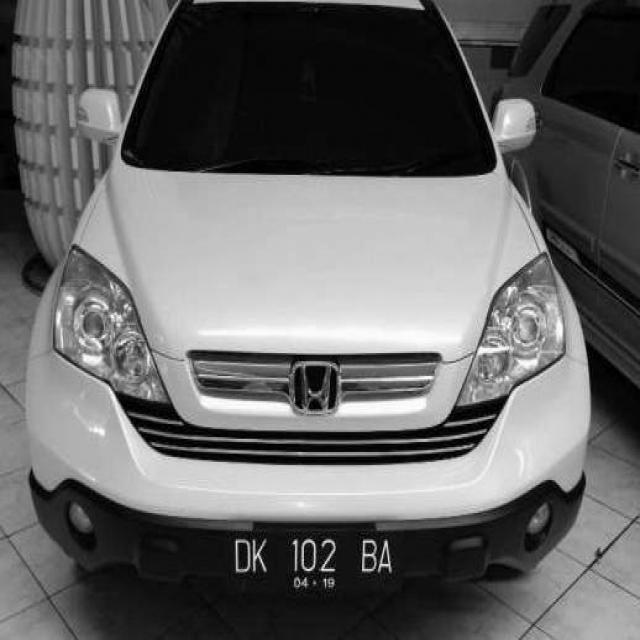0: (303, 536, 320, 583)
1: (286, 538, 304, 584)
2: (320, 540, 342, 576)
A: (376, 530, 398, 578)
B: (353, 530, 377, 578)
D: (233, 538, 251, 574)
K: (250, 538, 272, 572)
